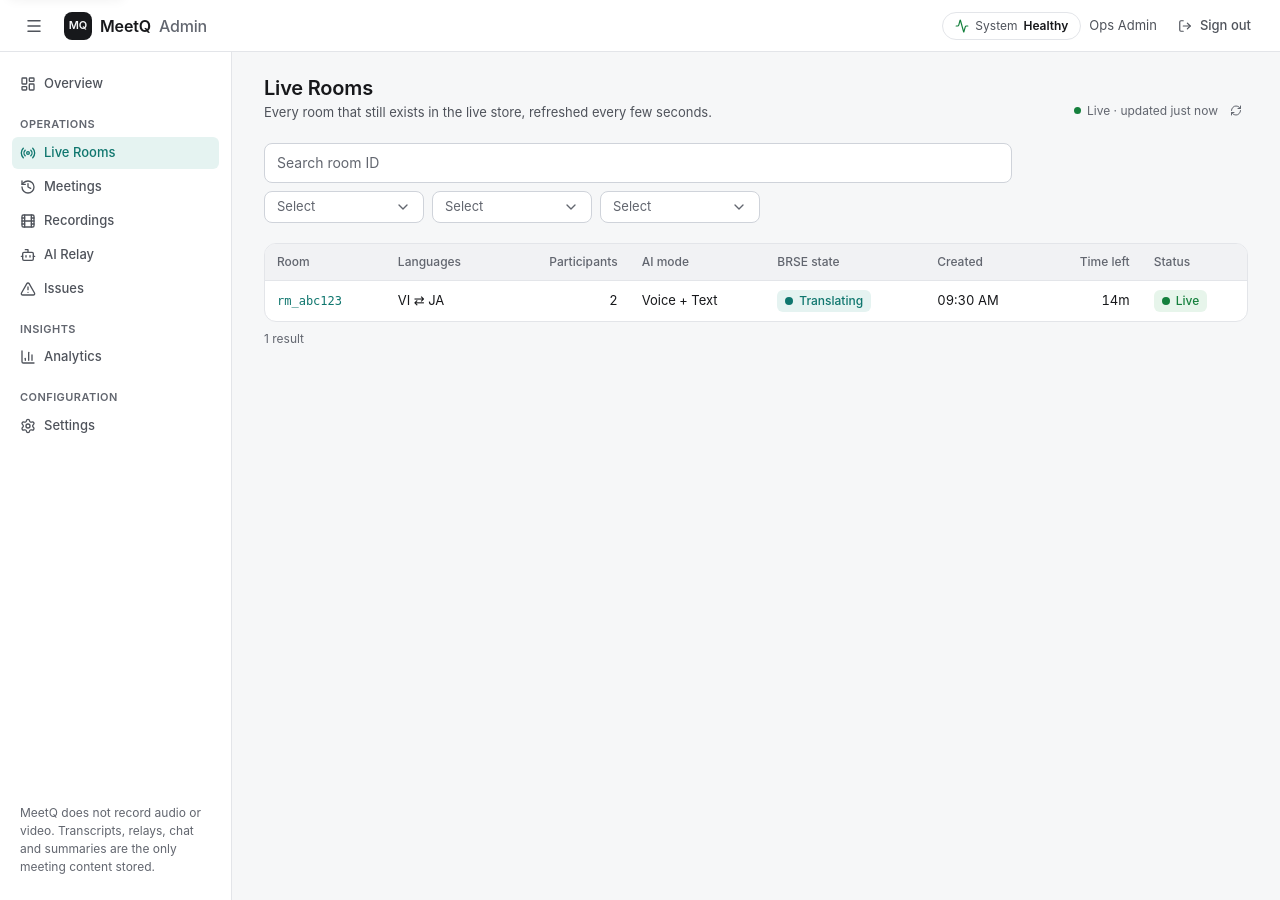
Scenario: Live Rooms page › sends the selected filter to the API
Expected: the link "rm_abc123" is shown, [277,294,342,308]
Click the button with aria-label "Language" at (680, 206), box [600,190,760,222]
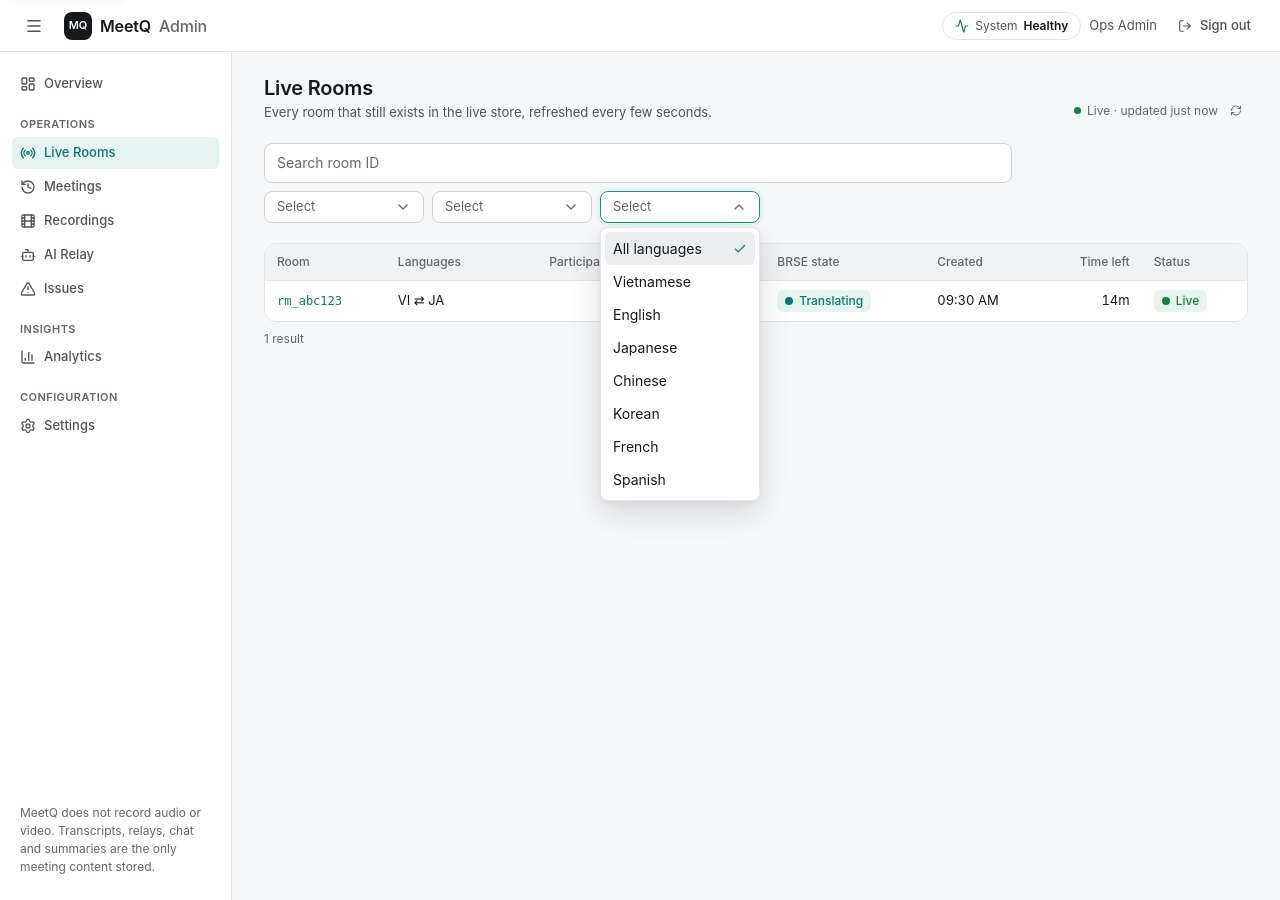
Click the option "English" at (680, 314), box [605,298,755,331]
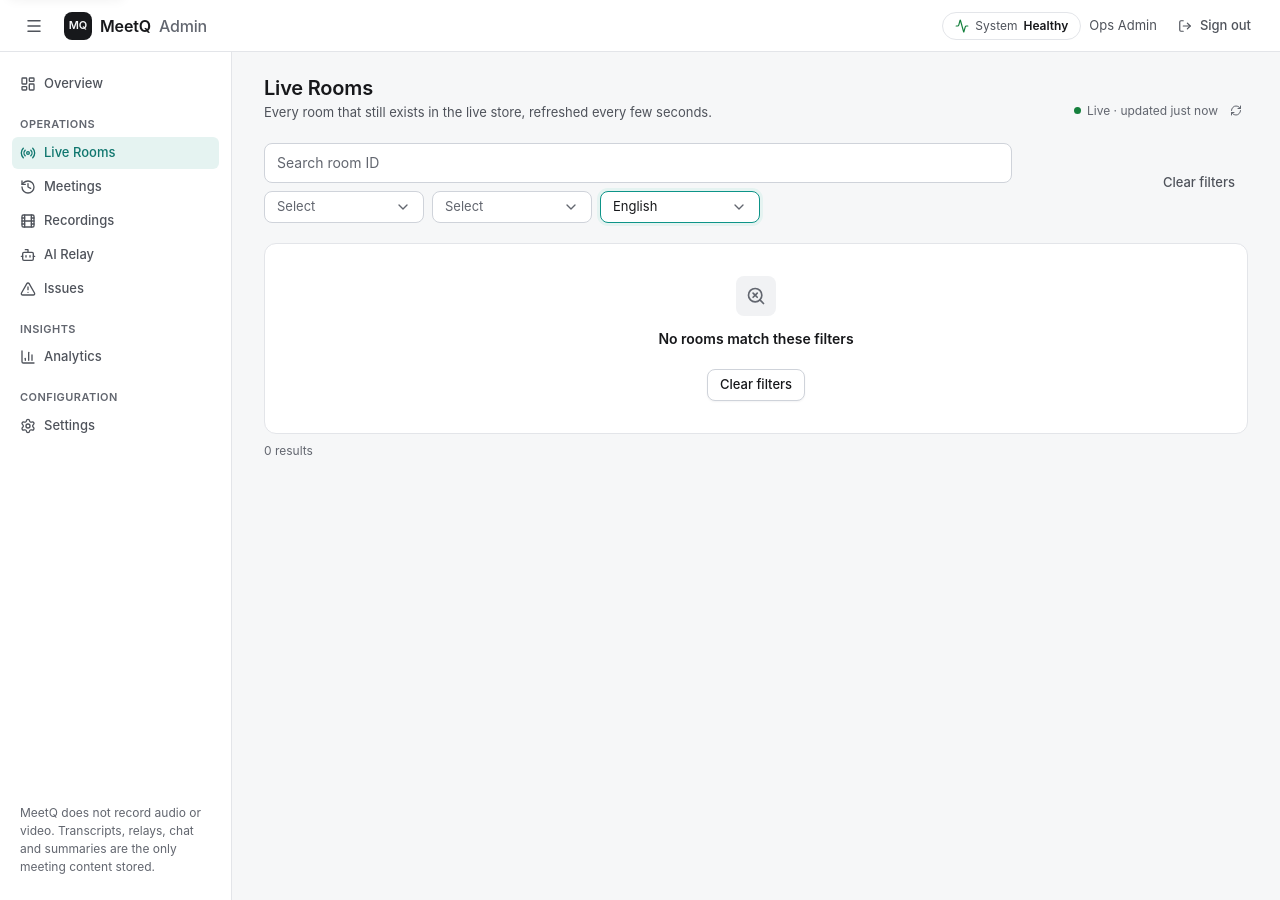
Result: the text "No rooms match these filters" is shown at [658,328,854,348]
